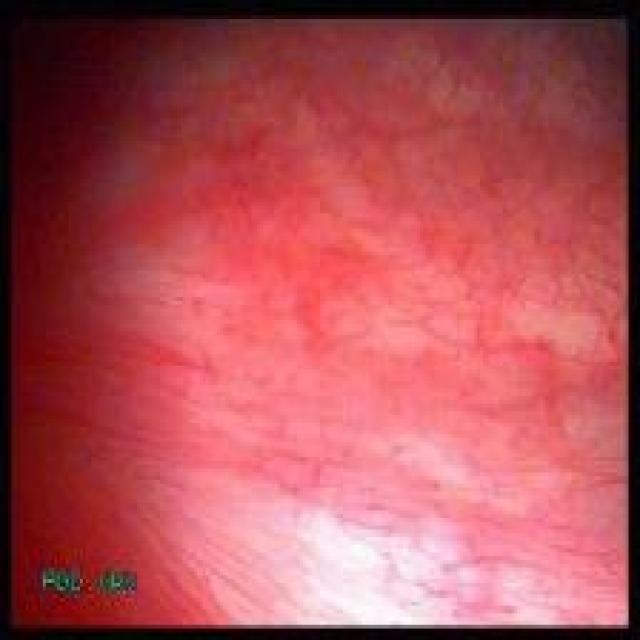color misalignment: (38, 567, 83, 596), (95, 567, 137, 596)
contrast: (10, 18, 163, 269)
saturation: (197, 362, 592, 624)
